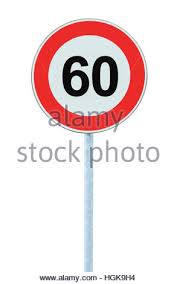Speed_limit_60km: (31, 18, 148, 133)
